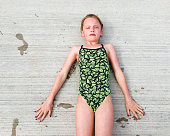deitado: (63, 9, 138, 136)
